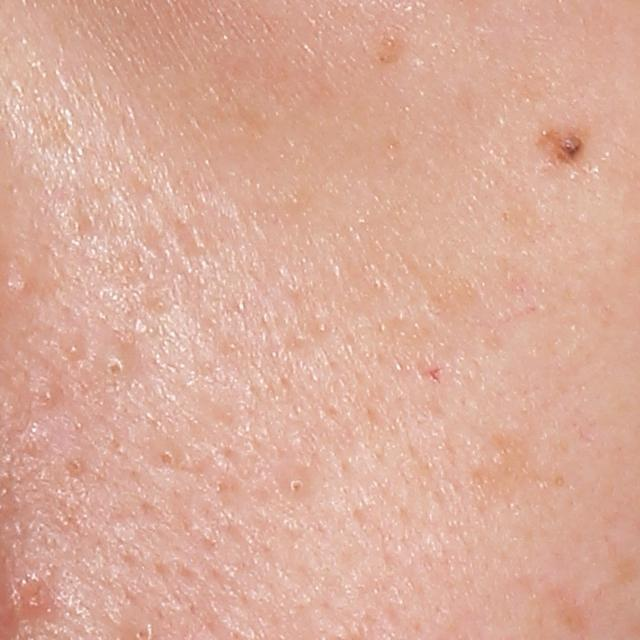comedo: (98, 349, 132, 382), (281, 470, 316, 501), (150, 444, 183, 473), (61, 331, 90, 362), (37, 380, 63, 407)
melasma: (378, 27, 407, 67)
nevus: (533, 122, 595, 167)
